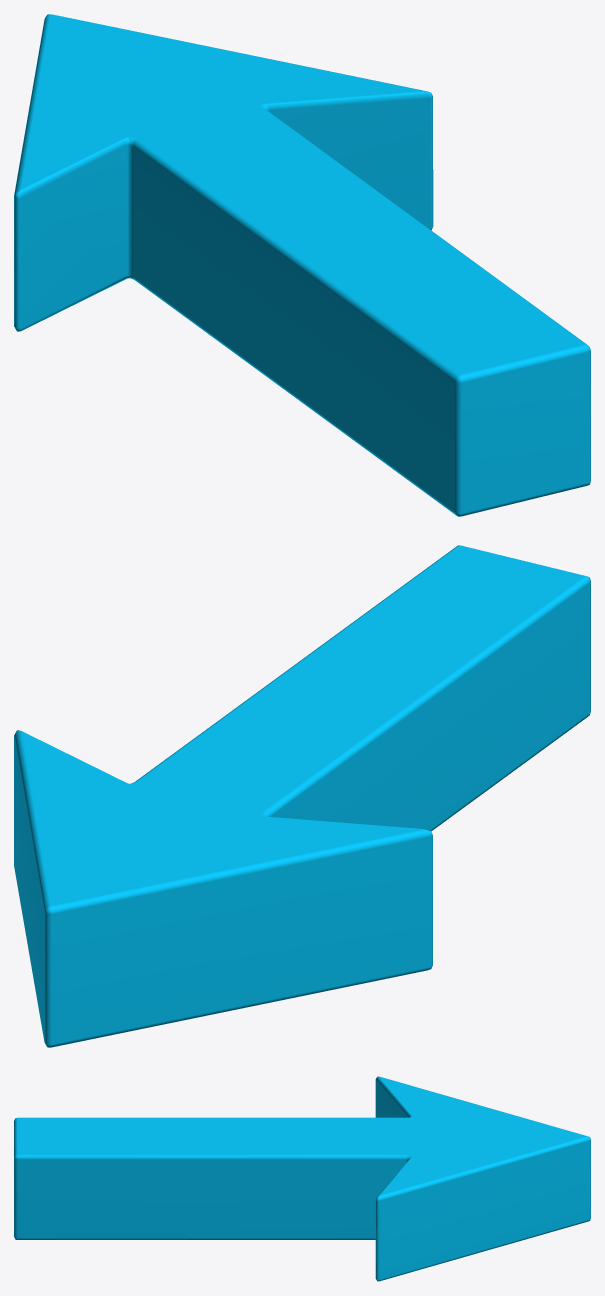
Rendered from arrow.glb.
3 views of the same model, one above another, from view 1: azimuth 30°, elevation 25°; view 2: azimuth 150°, elevation 25°; view 3: azimuth 270°, elevation 25° (orthographic). The views are drawn at different scales.
Parts seen in each view (by area): view 1: node_id4; view 2: node_id4; view 3: node_id4.
Boxes of the visible parts, bbox=[...] form: node_id4: bbox=[14, 14, 590, 516]; node_id4: bbox=[14, 545, 590, 1047]; node_id4: bbox=[14, 1076, 590, 1281].
Bounding box in the file's own units: 0.2579 × 0.0839 × 0.512.
1 material, 1 textured.
